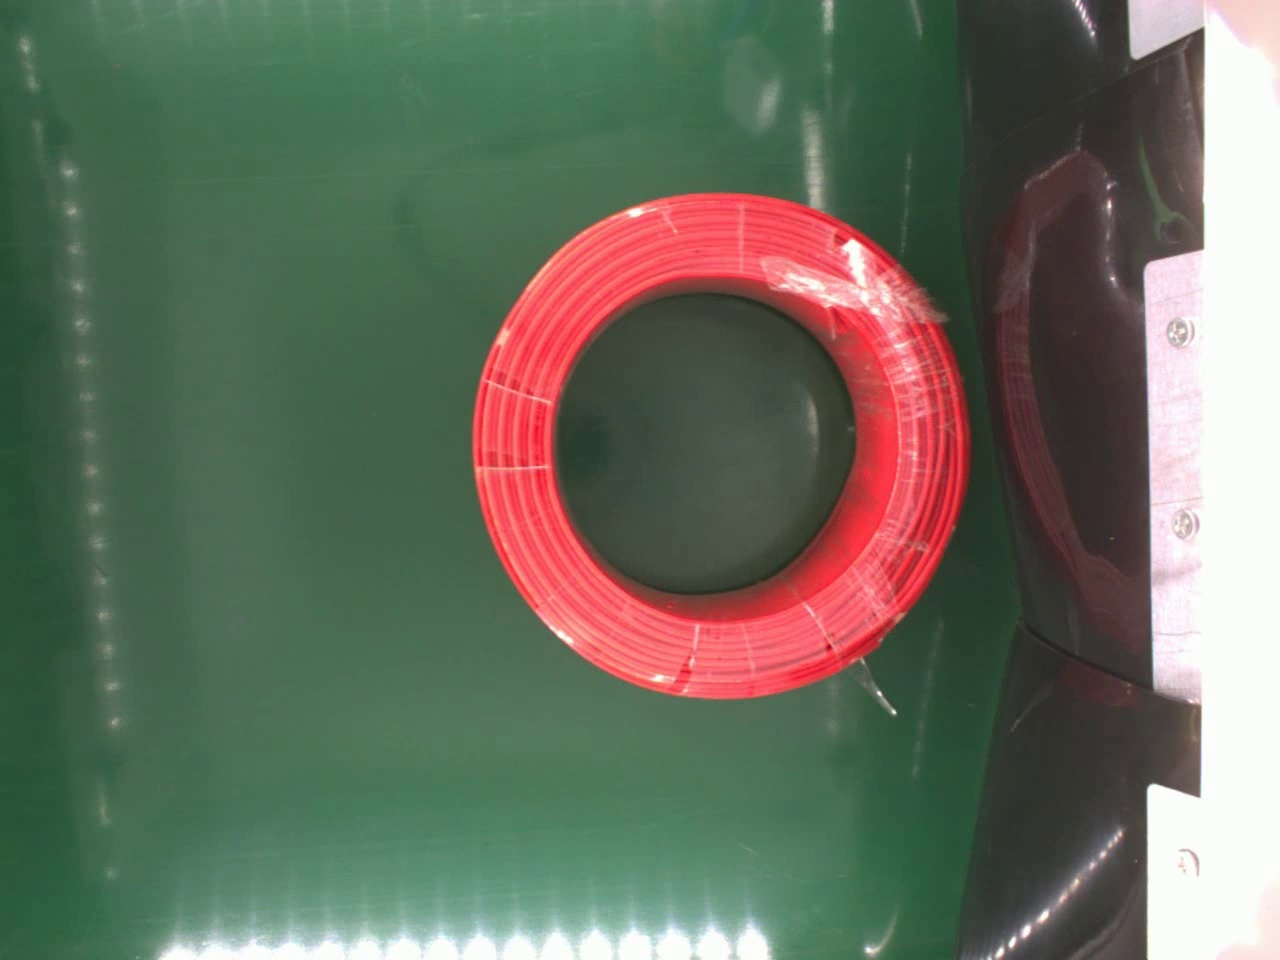red: (468, 192, 971, 705)
